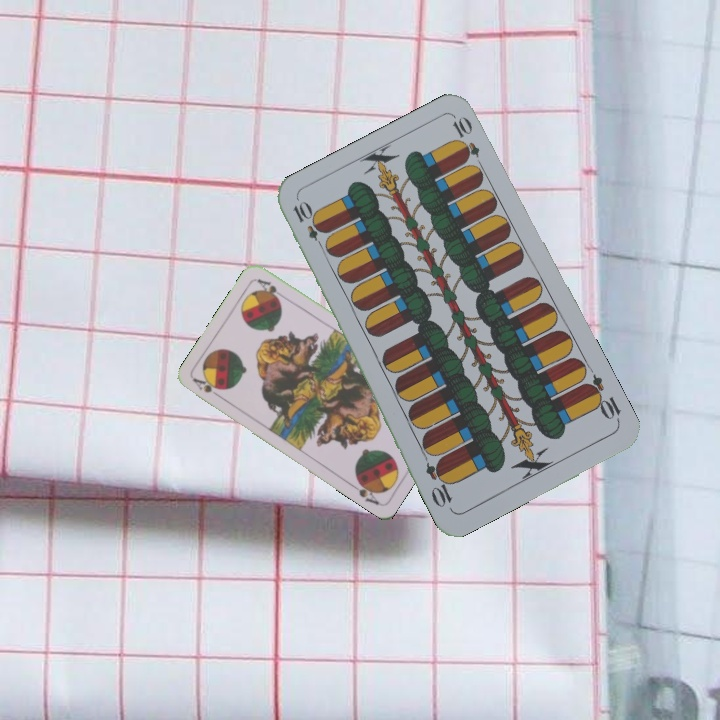E10: (580, 371, 624, 426), (289, 197, 329, 253)
SA: (189, 374, 226, 402)
